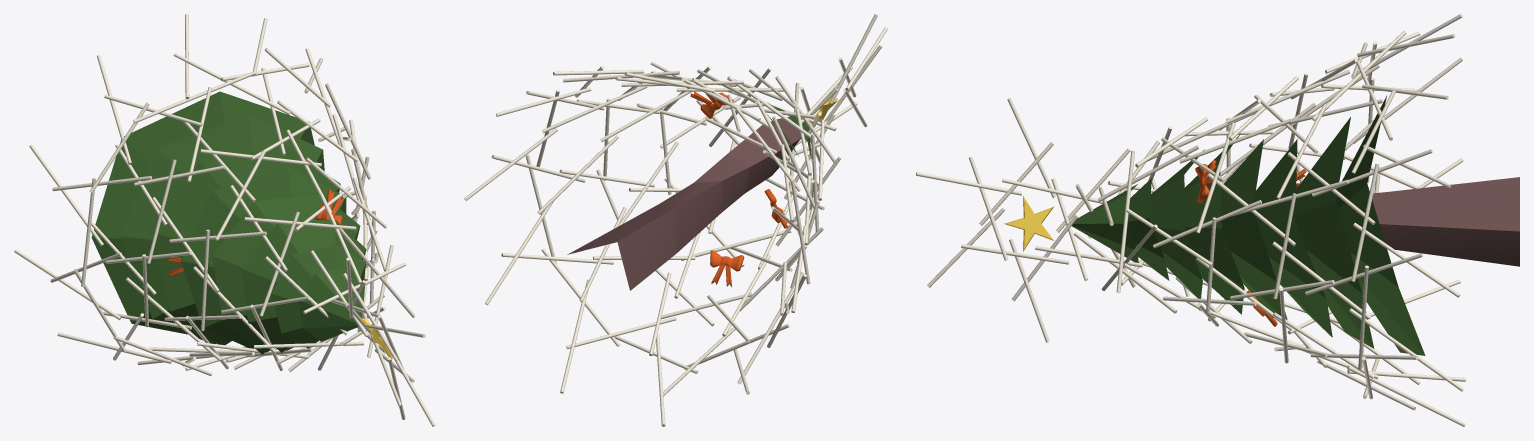
File: tree_stix.gltf
The picture shows the model from 3 angles, left to right: view 1: azimuth 30°, elevation 25°; view 2: azimuth 150°, elevation 25°; view 3: azimuth 270°, elevation 25°; orthographic projection. The views are drawn at different scales.
Parts seen in each view (by area): view 1: Cone.007_ChristmasTree_0, Cone.006_ChristmasTree_0, Cone.005_ChristmasTree_0, Cone.004_ChristmasTree_0, Cone.003_ChristmasTree_0, Cone.002_ChristmasTree_0, Cone.001_ChristmasTree_0, Cone_ChristmasTree_0, object 102, object 104, object 67, object 40 (+22 smaller); view 2: Stem_ChristmasTree_0, Ribbon.02_ChristmasTree_0, object 50, object 79, object 19, object 55, object 34, object 51, object 32, object 44, Ribbon.01_ChristmasTree_0, object 66 (+10 smaller); view 3: Stem_ChristmasTree_0, Cone.006_ChristmasTree_0, Cone.007_ChristmasTree_0, Cone.005_ChristmasTree_0, Cone.004_ChristmasTree_0, Cone.003_ChristmasTree_0, Cone.002_ChristmasTree_0, Cone_ChristmasTree_0, Cone.001_ChristmasTree_0, Star_ChristmasTree_0, object 21, object 50 (+1 smaller).
Part boxes in pixels (box(x1,y1,x2,y2)): Cone.007_ChristmasTree_0: box(91, 91, 314, 334); Cone.006_ChristmasTree_0: box(121, 115, 324, 343); Cone.005_ChristmasTree_0: box(153, 145, 340, 344); Cone.004_ChristmasTree_0: box(180, 167, 346, 348); Cone.003_ChristmasTree_0: box(212, 194, 360, 354); Cone.002_ChristmasTree_0: box(241, 220, 366, 352); Cone.001_ChristmasTree_0: box(271, 244, 365, 348); Cone_ChristmasTree_0: box(298, 268, 364, 341); object 102: box(133, 71, 255, 123); object 104: box(173, 53, 290, 114); object 67: box(14, 249, 121, 320); object 40: box(57, 332, 171, 363); Stem_ChristmasTree_0: box(567, 117, 801, 290); Ribbon.02_ChristmasTree_0: box(710, 250, 744, 286); object 50: box(485, 202, 553, 305); object 79: box(464, 128, 557, 200); object 19: box(542, 86, 647, 133); object 55: box(501, 253, 613, 264); object 34: box(541, 248, 620, 346); object 51: box(537, 135, 618, 214); object 32: box(566, 317, 676, 349); object 44: box(737, 272, 804, 383); Ribbon.01_ChristmasTree_0: box(690, 85, 733, 118); object 66: box(791, 180, 810, 284); Stem_ChristmasTree_0: box(1372, 177, 1519, 266); Cone.006_ChristmasTree_0: box(1295, 117, 1374, 348); Cone.007_ChristmasTree_0: box(1336, 96, 1425, 355); Cone.005_ChristmasTree_0: box(1254, 139, 1332, 337); Cone.004_ChristmasTree_0: box(1220, 139, 1287, 319); Cone.003_ChristmasTree_0: box(1184, 134, 1244, 314); Cone.002_ChristmasTree_0: box(1149, 149, 1204, 298); Cone_ChristmasTree_0: box(1072, 184, 1138, 262); Cone.001_ChristmasTree_0: box(1127, 178, 1169, 280); Star_ChristmasTree_0: box(1004, 196, 1054, 251); object 21: box(1116, 150, 1134, 292); object 50: box(1349, 308, 1463, 391).
Size of the model in its own units: 0.0179 by 0.0178 by 0.0264.
Materials: 2 (1 with a texture image).
